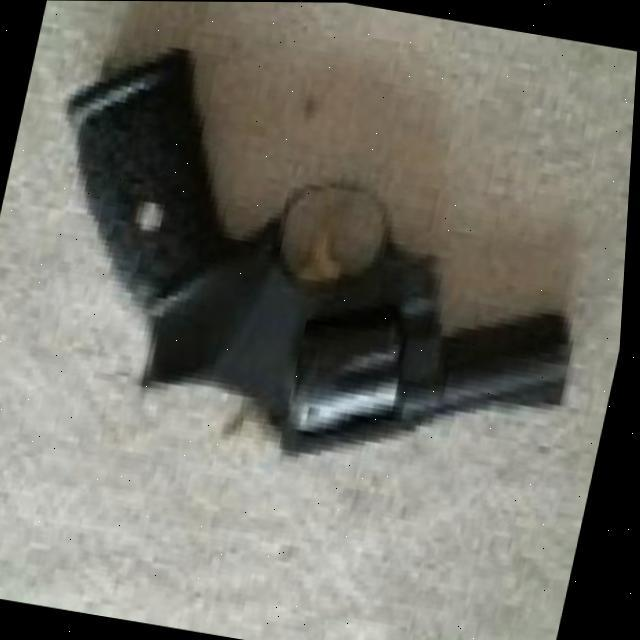gun: (0, 23, 619, 502)
